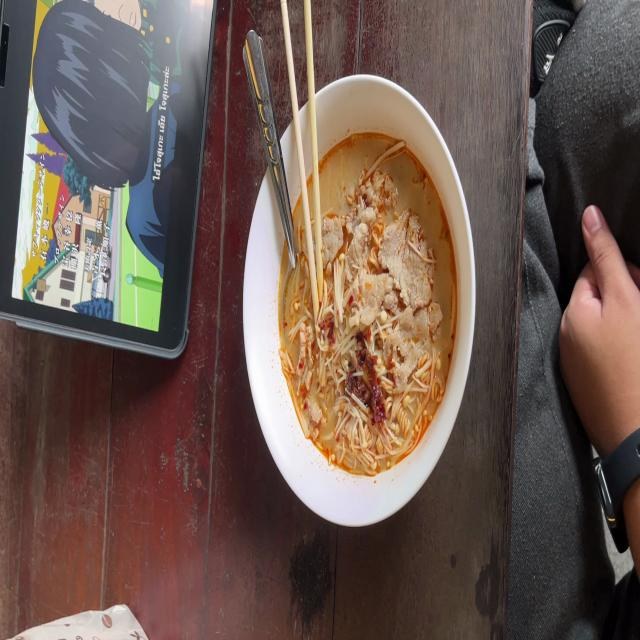noodle: (250, 91, 483, 527)
